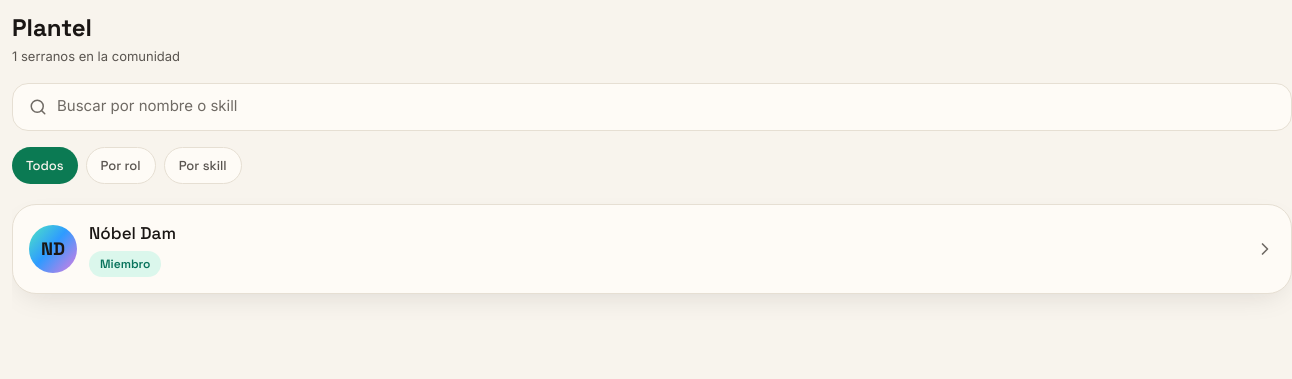
Scenario: PlantelList › shows an empty state inside the skill picker when there are no options
Click the button "Por skill".
click(203, 165)  # box [164,146,242,184]
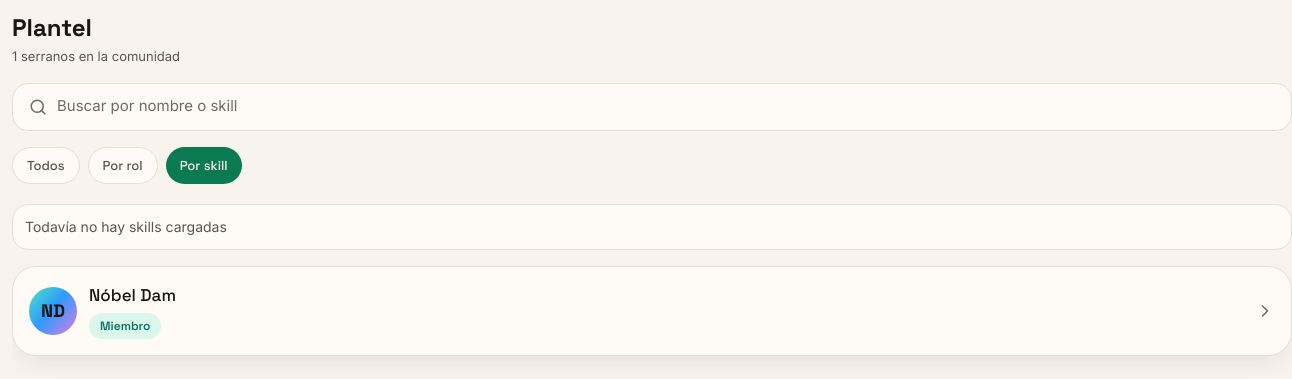
Check: the text "Todavía no hay skills cargadas" is shown, box [25,217,227,237]
